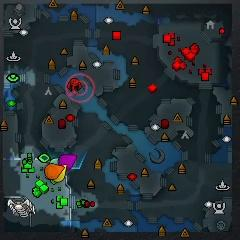p2: (49, 158, 60, 165)
p3: (59, 154, 77, 170)
p4: (54, 164, 68, 182)
p5: (45, 163, 64, 180)
